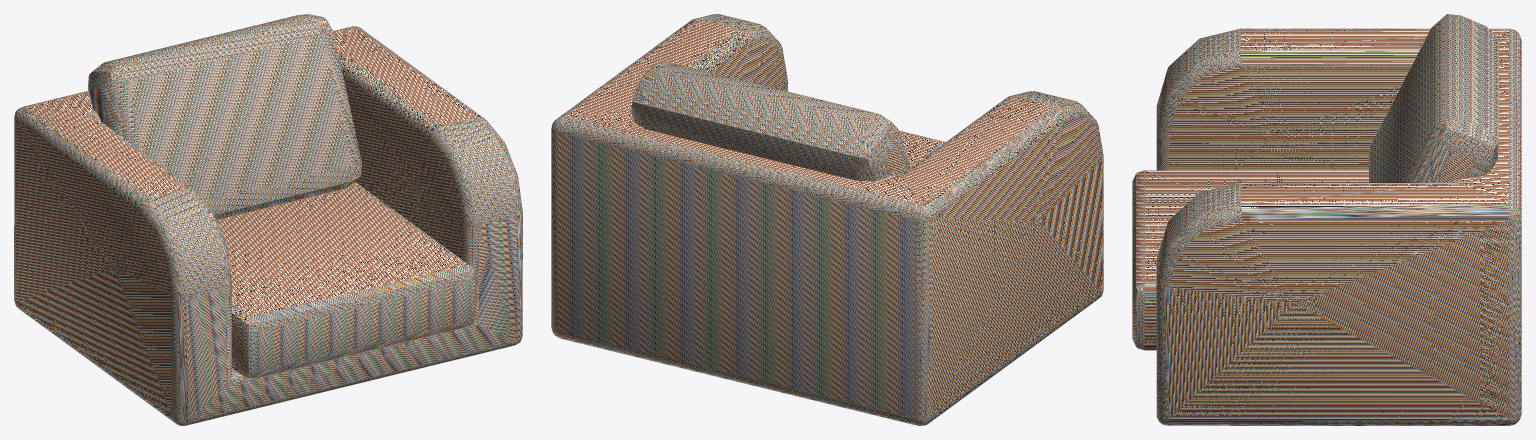
Rendered from furniture.glb.
3 views of the same model, side by side, from view 1: azimuth 30°, elevation 25°; view 2: azimuth 150°, elevation 25°; view 3: azimuth 270°, elevation 25° (orthographic). The views are drawn at different scales.
Parts seen in each view (by area): view 1: armchair; view 2: armchair; view 3: armchair.
Boxes of the visible parts, left/top/right/bottom form: armchair: left=14, top=14, right=522, bottom=425; armchair: left=551, top=14, right=1103, bottom=425; armchair: left=1132, top=14, right=1521, bottom=425.
Bounding box in the file's own units: 65534 × 44566 × 58252.
1 material, 1 textured.
